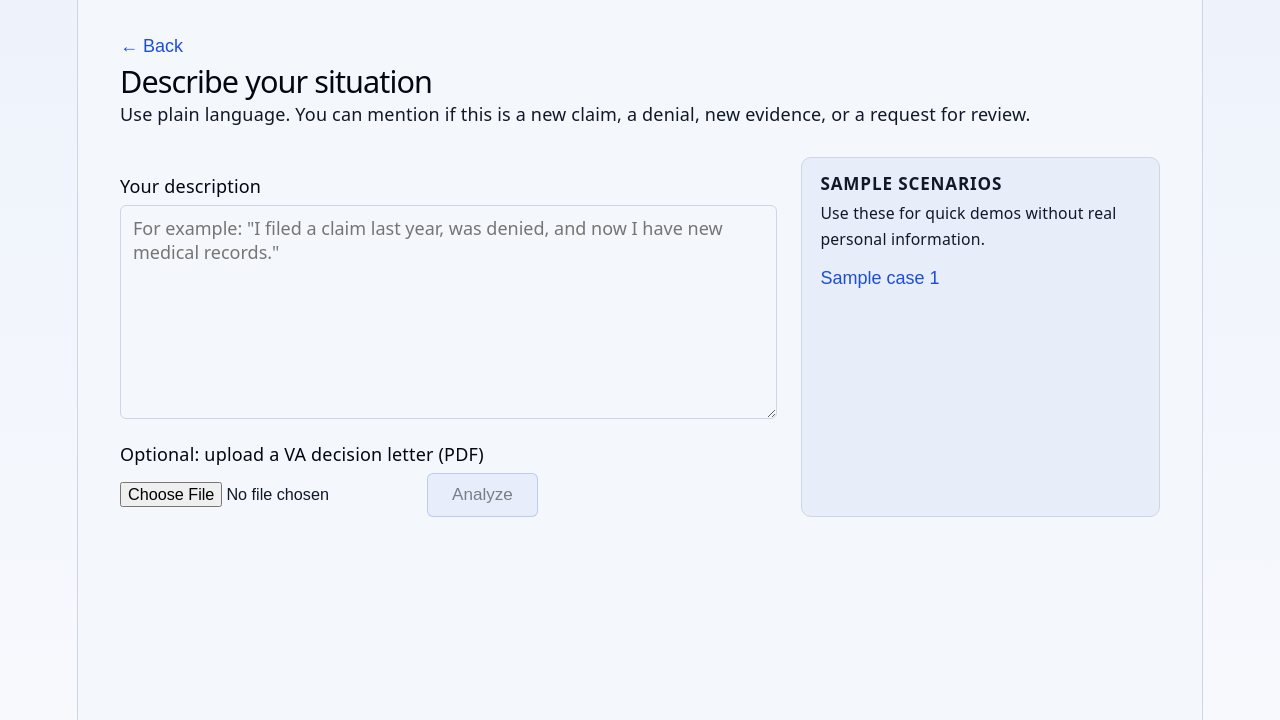
Test case: IntakePage › shows an error message when analyzeSession rejects
The width and height of the screenshot is (1280, 720).
Type "test" into the text box labelled "Your description" at (449, 312), box [120, 205, 777, 419]
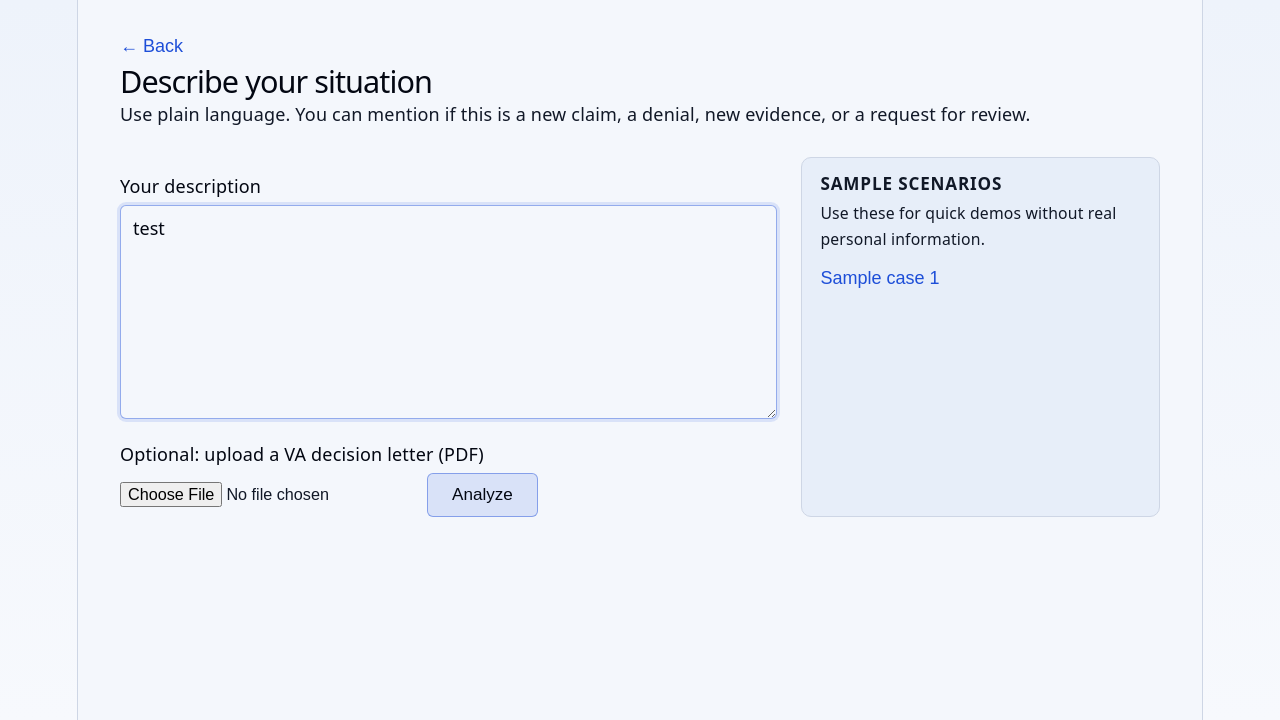
Click the button "Analyze" at (482, 495), box [427, 473, 538, 517]
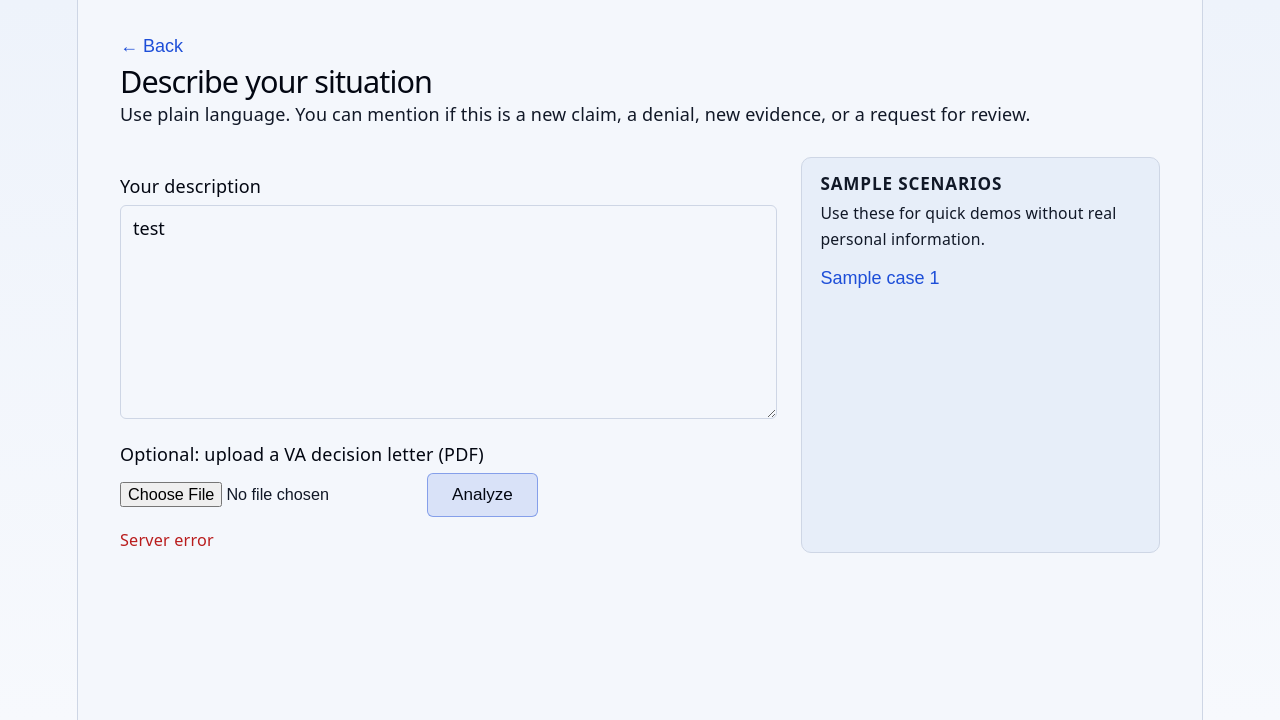
Result: the text "Server error" is shown at [120, 529, 214, 551]
